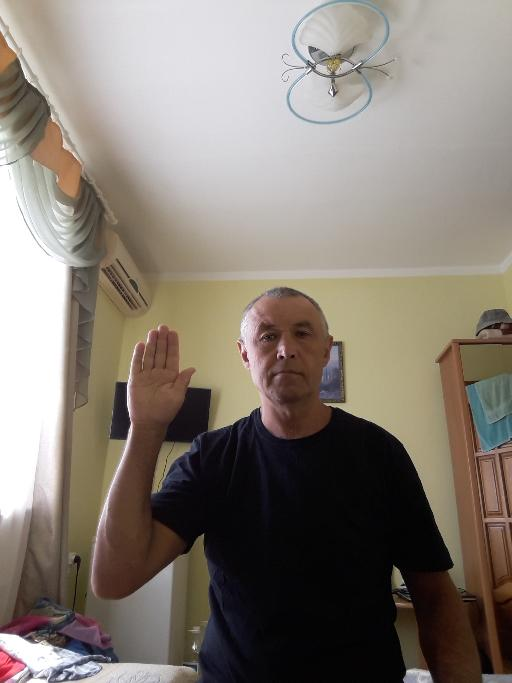stop: (123, 321, 196, 430)
